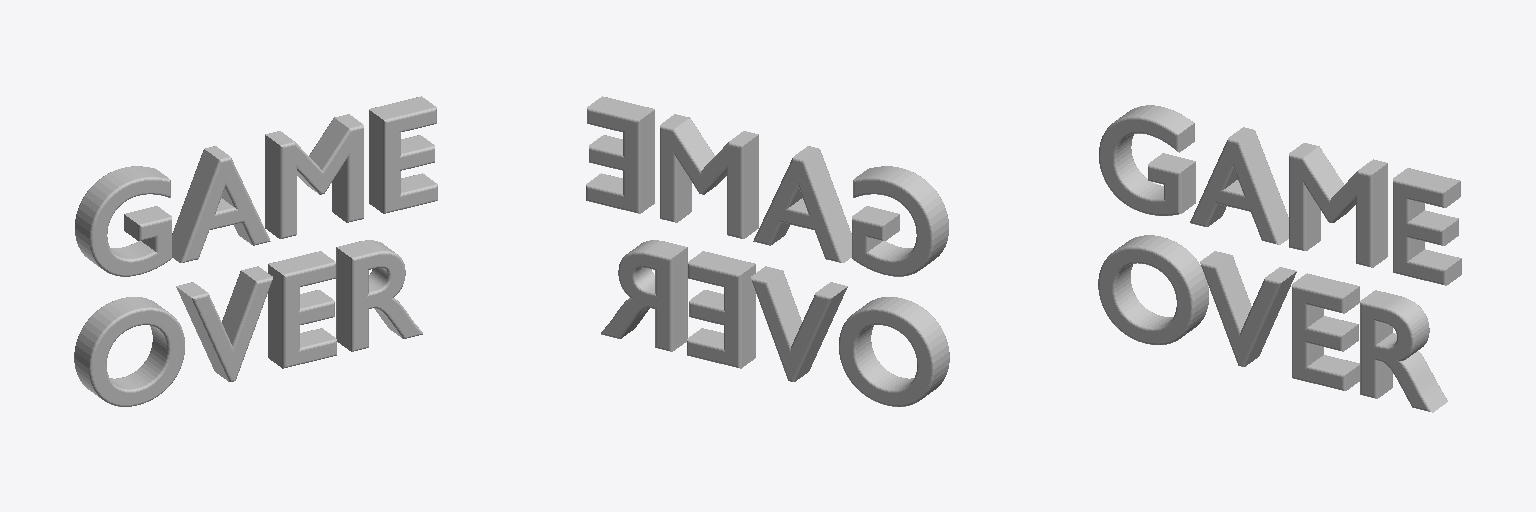
The model's file is gameover.obj.
The picture shows the model from 3 angles: view 1: azimuth 30°, elevation 25°; view 2: azimuth 150°, elevation 25°; view 3: azimuth 330°, elevation 25°; orthographic projection.
Size of the model in its own units: 2.8 by 1.74 by 0.24.